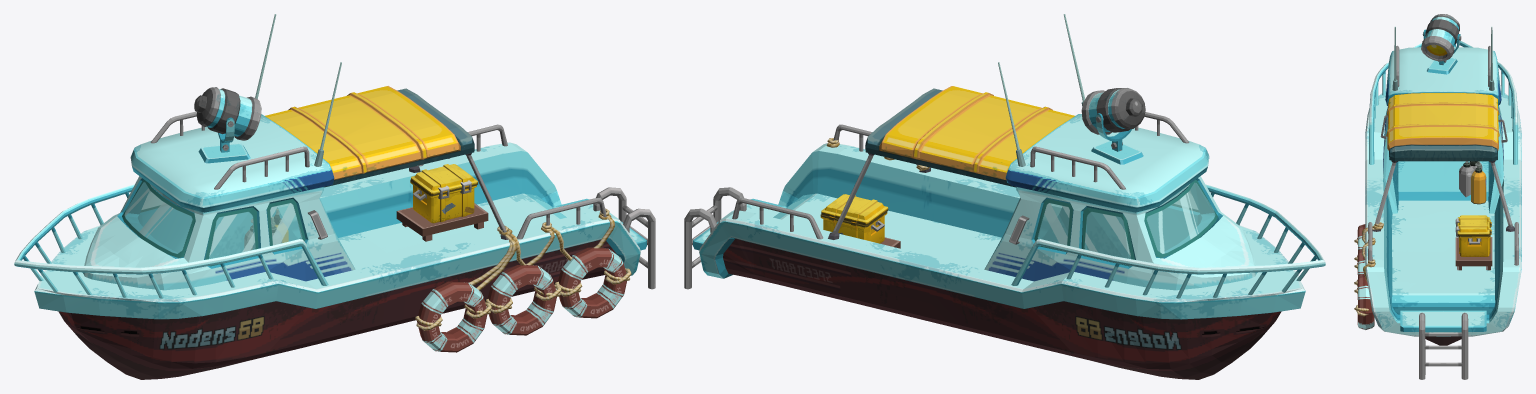
Rendered from boat_evening.glb.
3 renders of one model, left to right at view 1: azimuth 30°, elevation 25°; view 2: azimuth 150°, elevation 25°; view 3: azimuth 270°, elevation 25°, orthographic. The views are drawn at different scales.
Size of the model in its own units: 12.56 by 6.14 by 3.97.
8 materials, 8 textured.
